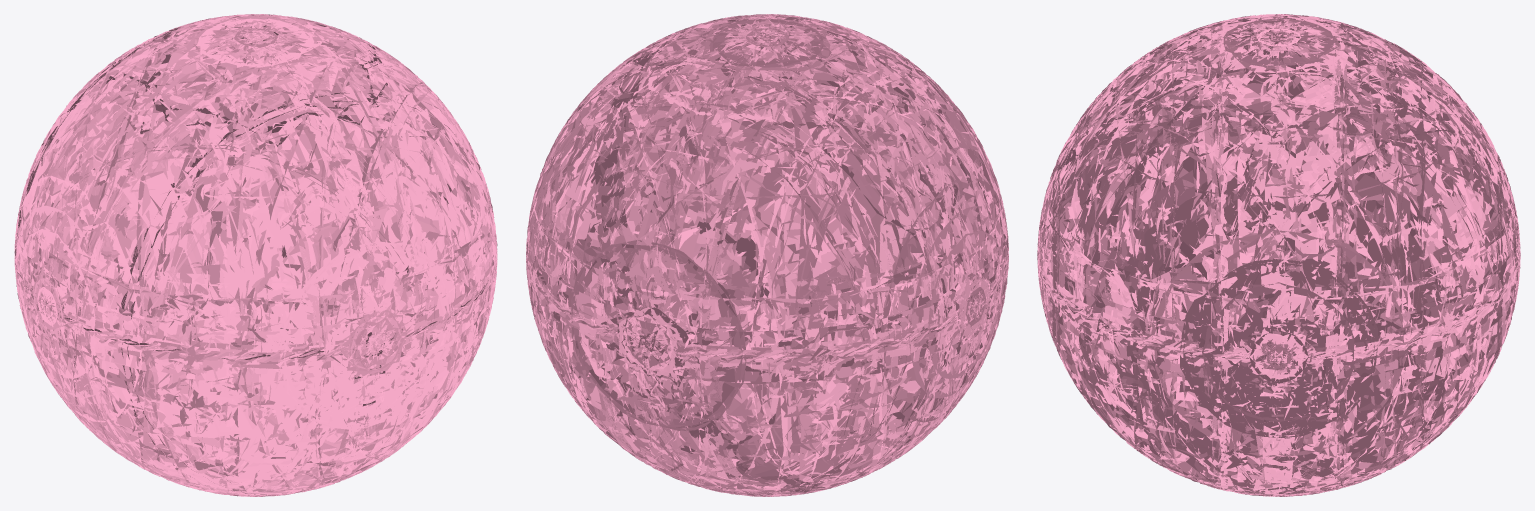
File: sys-md-fire_gas.glb
3 views of the same model, side by side, from view 1: azimuth 30°, elevation 25°; view 2: azimuth 150°, elevation 25°; view 3: azimuth 270°, elevation 25° (orthographic).
Visible parts, largest first — view 1: TS-md-fire_gas-1703; view 2: TS-md-fire_gas-1703; view 3: TS-md-fire_gas-1703.
Part boxes in pixels (<box>): TS-md-fire_gas-1703: <box>14,14,497,496</box>; TS-md-fire_gas-1703: <box>526,14,1008,496</box>; TS-md-fire_gas-1703: <box>1037,14,1520,496</box>.
Size of the model in its own units: 2 by 2 by 2.
